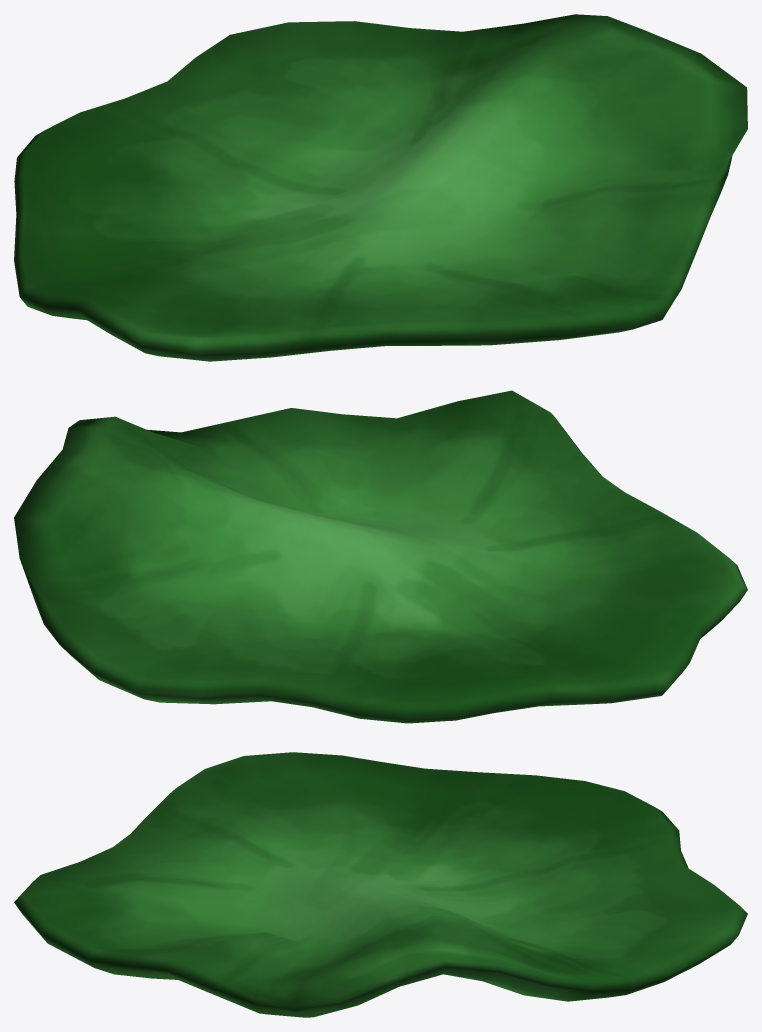
Rendered from MSH_Lehuga_cortada.fbx.
3 renders of one model, top to bottom at view 1: azimuth 30°, elevation 25°; view 2: azimuth 150°, elevation 25°; view 3: azimuth 270°, elevation 25°, orthographic. The views are drawn at different scales.
Visible parts, largest first — view 1: MSH_Lehuga_cortada; view 2: MSH_Lehuga_cortada; view 3: MSH_Lehuga_cortada.
Boxes of the visible parts, x1,y1,x2,y2 form: MSH_Lehuga_cortada: [14, 14, 747, 361]; MSH_Lehuga_cortada: [14, 390, 747, 723]; MSH_Lehuga_cortada: [14, 752, 747, 1017].
Size of the model in its own units: 16.25 by 16.87 by 3.39.
Materials: 1 (1 with a texture image).
